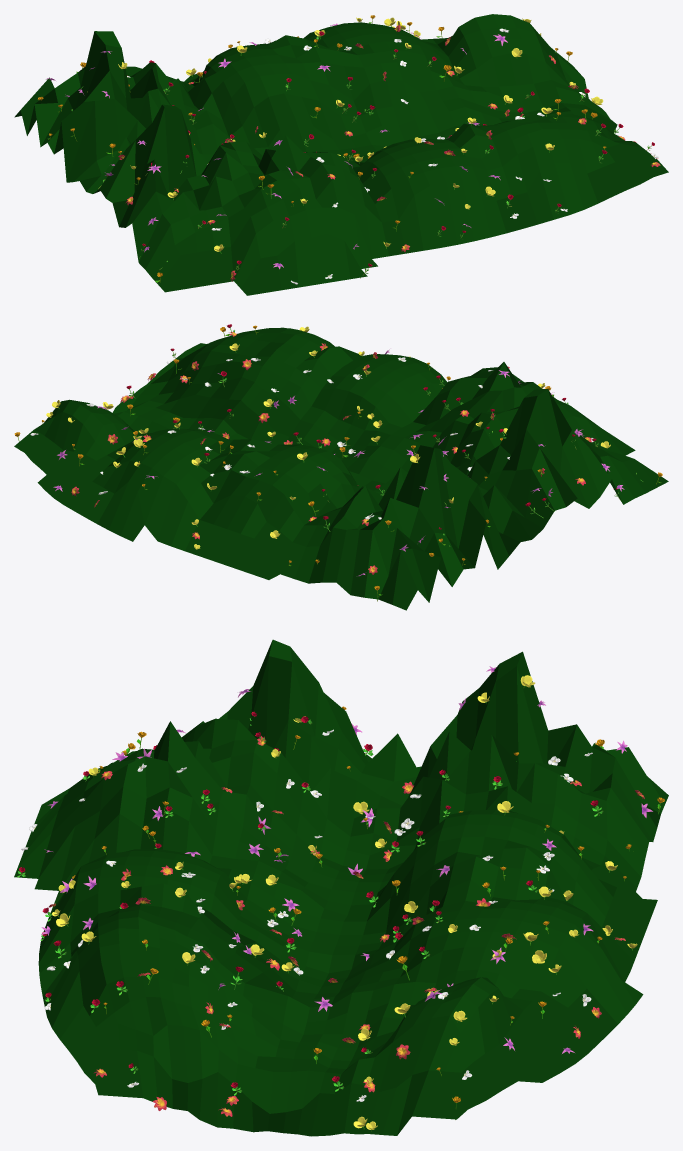
File: act1_valley_edit_flowers_added.fbx
The picture shows the model from 3 angles, top to bottom: view 1: azimuth 30°, elevation 25°; view 2: azimuth 150°, elevation 25°; view 3: azimuth 270°, elevation 25°; orthographic projection. The views are drawn at different scales.
Parts seen in each view (by area): view 1: valley:Velley1; view 2: valley:Velley1; view 3: valley:Velley1.
Boxes of the visible parts, x1,y1,x2,y2 form: valley:Velley1: (14, 14, 668, 295); valley:Velley1: (14, 327, 668, 610); valley:Velley1: (14, 639, 668, 1136).
Size of the model in its own units: 1049 by 274 by 821.
